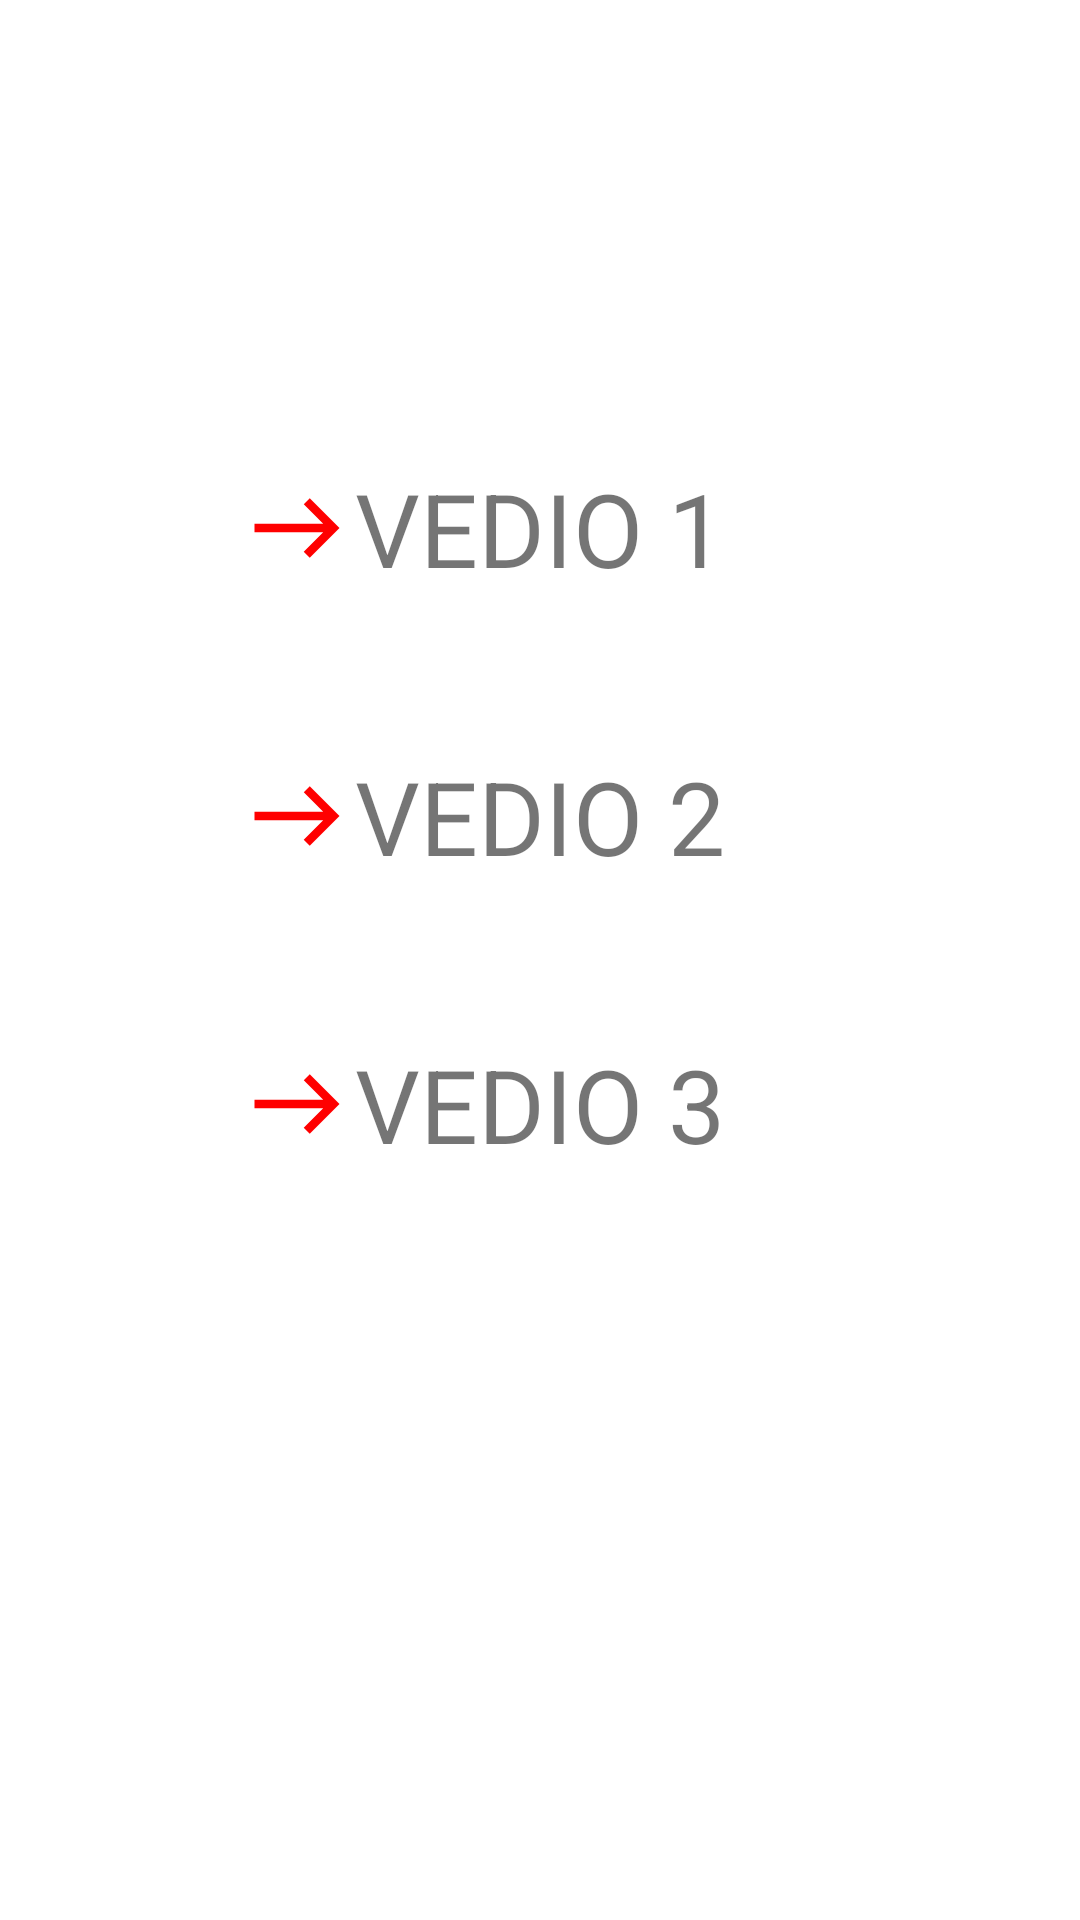

Screen size 1080×1920. Icon name, then its center in pixels as (x,y):
east: (297,528), (297,816), (297,1104)
